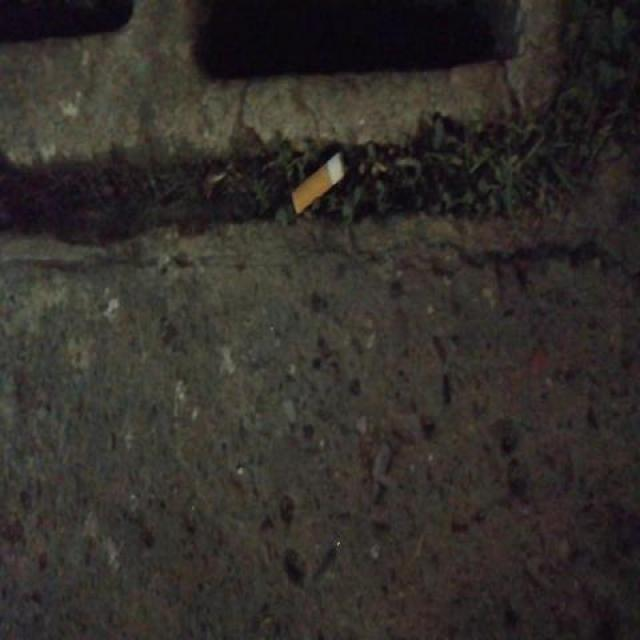non-organic waste: (289, 146, 351, 221)
